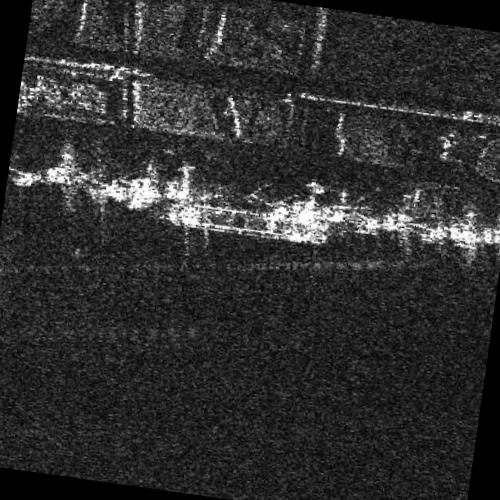ship: (164, 203, 332, 245)
